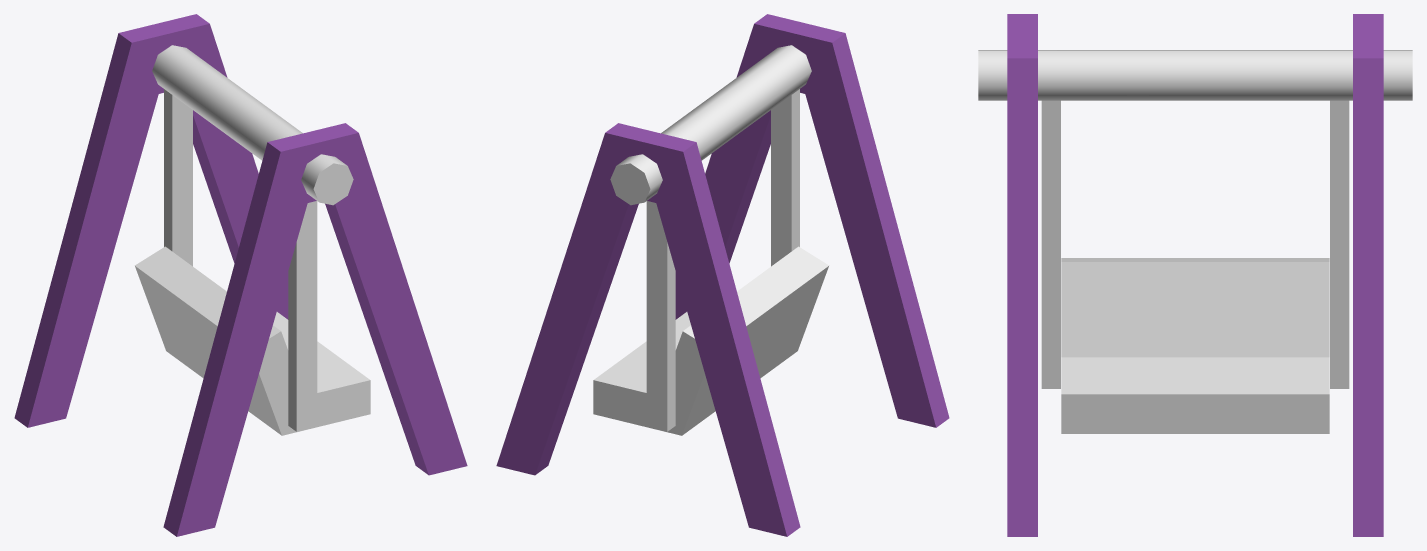
File: swing01_s02.FBX
3 renders of one model, left to right at view 1: azimuth 30°, elevation 25°; view 2: azimuth 150°, elevation 25°; view 3: azimuth 270°, elevation 25°, orthographic. The views are drawn at different scales.
Visible parts, largest first — view 1: swing01_s02, swing01_part2_s02; view 2: swing01_s02, swing01_part2_s02; view 3: swing01_part2_s02, swing01_s02.
Boxes of the visible parts, x1,y1,x2,y2 form: swing01_s02: (14, 14, 467, 536); swing01_part2_s02: (135, 89, 370, 435); swing01_s02: (496, 14, 949, 536); swing01_part2_s02: (593, 89, 828, 435); swing01_part2_s02: (1041, 100, 1349, 433); swing01_s02: (978, 14, 1412, 536).
Bounding box in the file's own units: 178 × 199 × 211.
1 material, 1 textured.
